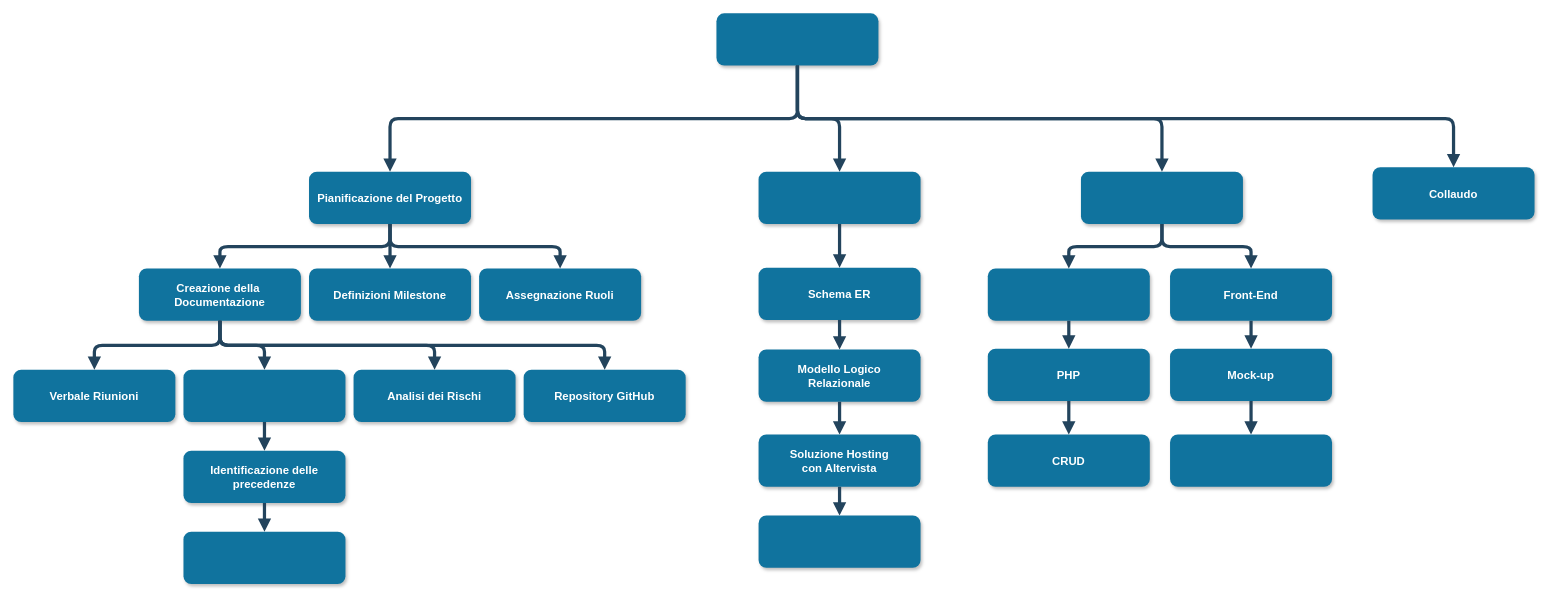
The diagram is 1548 pixels wide and 597 high, and some of its shapes have lost their labels. Here are the shapes that lost their labels. From the top down, the centre of each, then its label:
At [798,40]: "Mercurio UDA".
At [840,198]: "Progettazione e Implementazione Database".
At [1162,198]: "Implementazione WebApplication".
At [1069,295]: "Back-End".
At [265,396]: "WBS".
At [1251,461]: "HTML/CSS/JavaScript".
At [265,558]: "Gantt".
At [840,542]: "Creazione struttura base di dati con MySQL".
